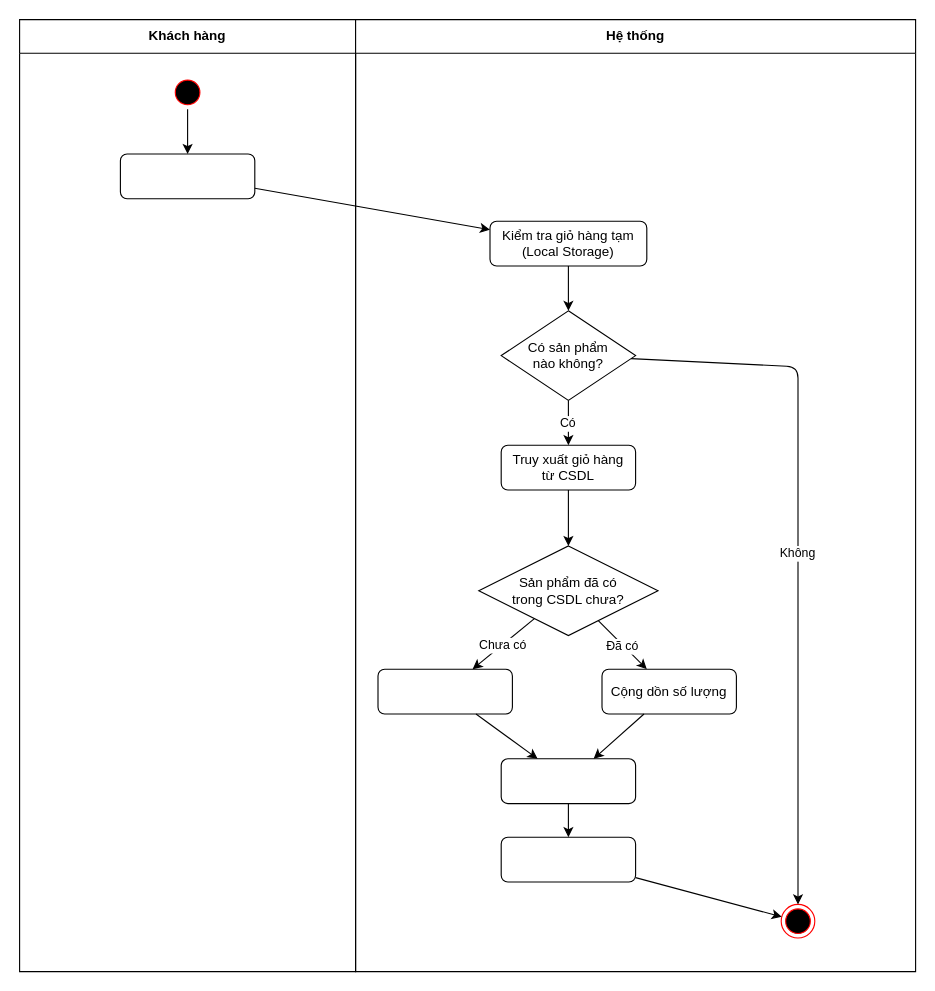
Some shapes in this 935 by 991 pixel diagram are drawn without their labels. Each missing label, with the centre of its shape:
Lưu cập nhật vào CSDL: the point at 568,781
Thêm mới vào giỏ hàng CSDL: the point at 444,691
Xóa giỏ hàng tạm và làm mới hiển thị: the point at 568,859
Đăng nhập thành công: the point at 187,176
